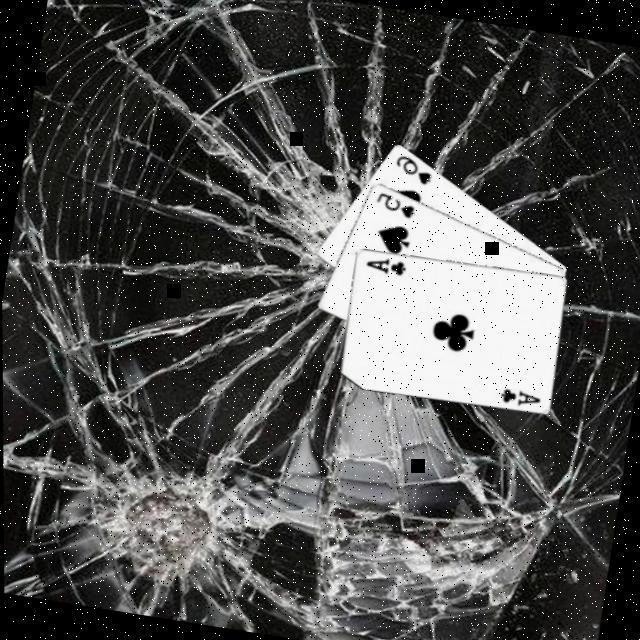5S: (372, 187, 420, 220)
6S: (391, 148, 438, 186)
AC: (496, 381, 544, 410), (362, 250, 410, 278)
